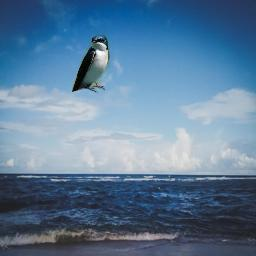Swallow: (72, 34, 110, 94)
